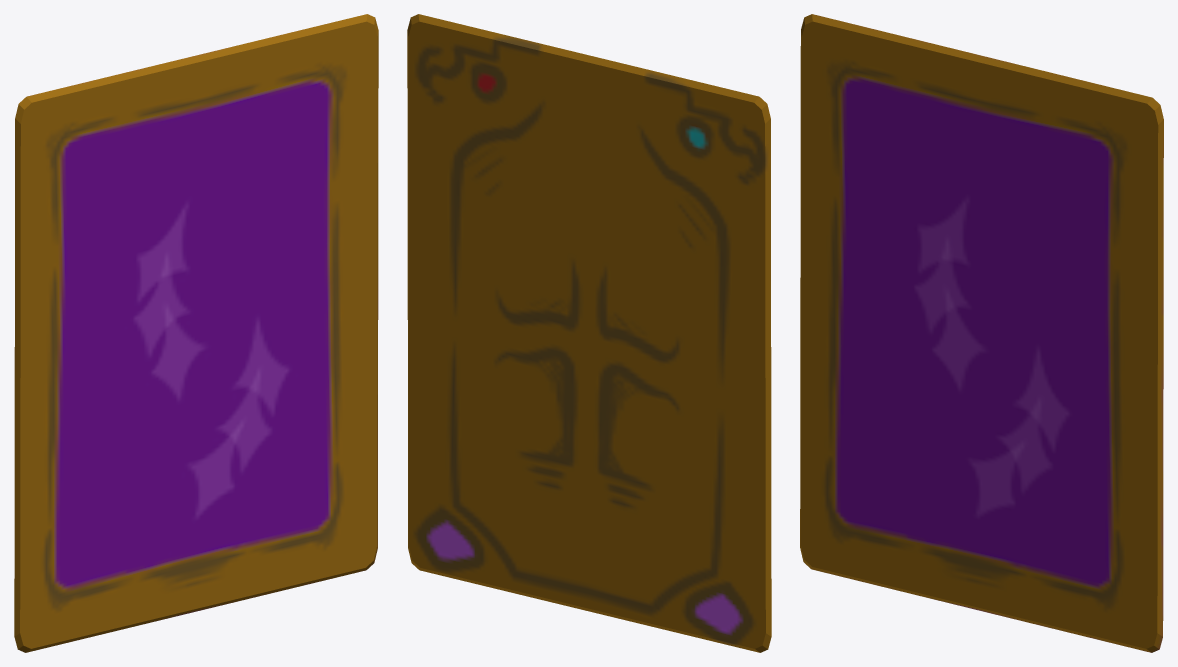
3 views of the same model, side by side, from view 1: azimuth 30°, elevation 25°; view 2: azimuth 150°, elevation 25°; view 3: azimuth 330°, elevation 25° (orthographic).
Parts seen in each view (by area): view 1: Card; view 2: Card; view 3: Card.
Boxes of the visible parts, <box> form: Card: <box>14,14,378,652</box>; Card: <box>407,14,771,652</box>; Card: <box>800,14,1163,652</box>.
Bounding box in the file's own units: 7.12 × 10.4 × 0.163.
